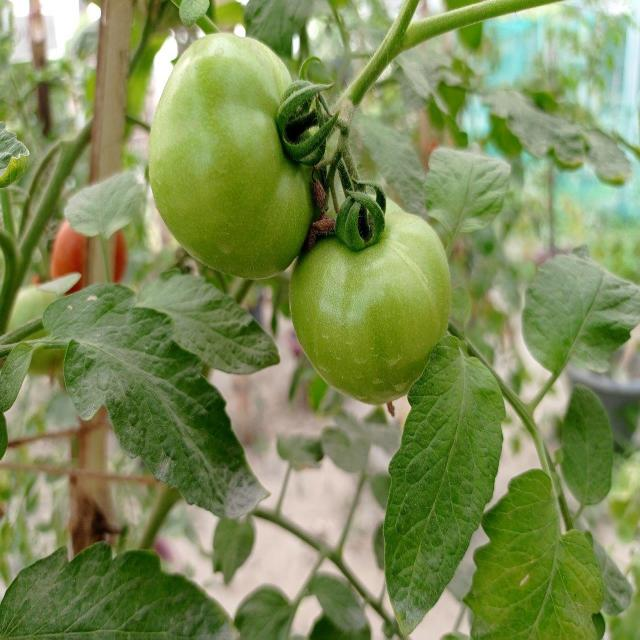Unripe: (148, 32, 317, 278), (290, 197, 451, 402)
